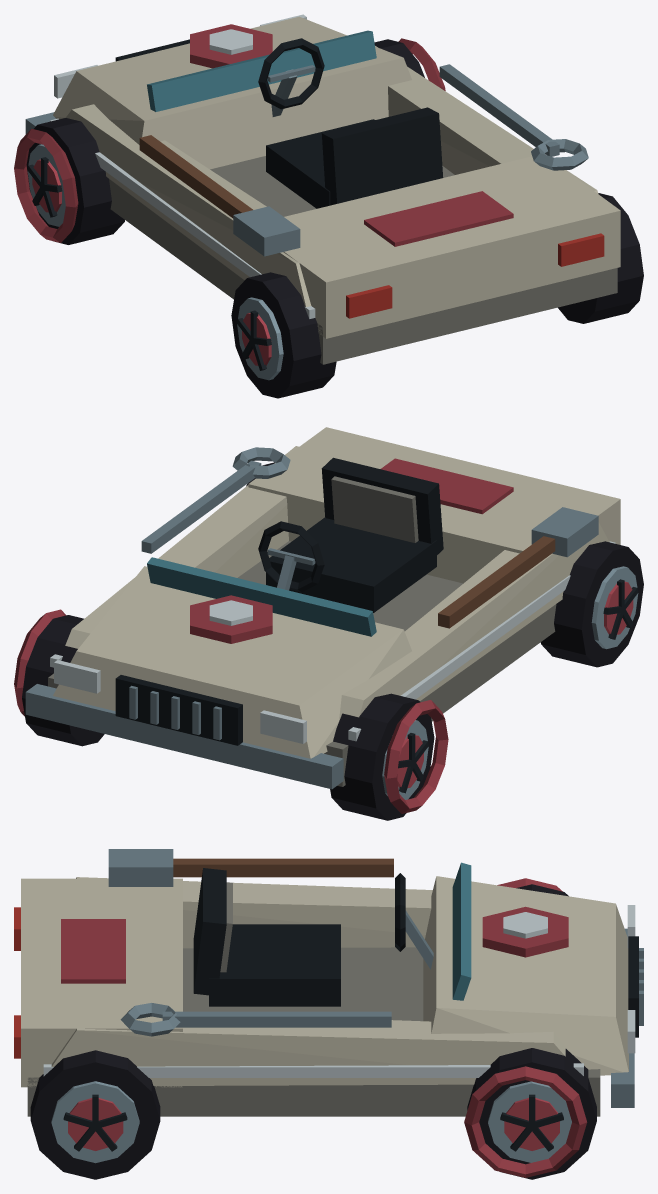
The model's file is kart.glb.
3 renders of one model, top to bottom at view 1: azimuth 30°, elevation 25°; view 2: azimuth 150°, elevation 25°; view 3: azimuth 270°, elevation 25°, orthographic. The views are drawn at different scales.
Visible parts, largest first — view 1: identity-sedan-sedan-road-car-body, identity-sedan-driver-cockpit, wheel-rear-left, identity-sedan-motif-tools, wheel-front-left, identity-sedan-motif-neon, wheel-rear-right, identity-sedan-motif-badge, wheel-front-right; view 2: identity-sedan-sedan-road-car-body, identity-sedan-driver-cockpit, wheel-rear-left, identity-sedan-motif-tools, wheel-front-left, identity-sedan-motif-neon, wheel-front-right, identity-sedan-motif-badge; view 3: identity-sedan-sedan-road-car-body, identity-sedan-driver-cockpit, wheel-rear-right, identity-sedan-motif-tools, identity-sedan-motif-neon, wheel-front-right, identity-sedan-motif-badge.
Boxes of the visible parts, x1,y1,x2,y2 form: identity-sedan-sedan-road-car-body: (25,14,620,364); identity-sedan-driver-cockpit: (258,38,443,208); wheel-rear-left: (231,272,336,398); identity-sedan-motif-tools: (139,64,588,256); wheel-front-left: (26,118,124,244); identity-sedan-motif-neon: (14,38,445,318); wheel-rear-right: (558,193,643,323); identity-sedan-motif-badge: (190,24,272,68); wheel-front-right: (374,39,424,77); identity-sedan-sedan-road-car-body: (25,427,620,789); identity-sedan-driver-cockpit: (258,457,443,612); wheel-rear-left: (540,541,643,667); identity-sedan-motif-tools: (141,447,598,628); wheel-front-left: (330,693,434,820); identity-sedan-motif-neon: (14,541,615,813); wheel-front-right: (22,615,104,746); identity-sedan-motif-badge: (190,595,272,643); identity-sedan-sedan-road-car-body: (14,862,643,1116); identity-sedan-driver-cockpit: (193,868,433,1006); wheel-rear-right: (30,1050,160,1179); identity-sedan-motif-tools: (108,849,393,1036); identity-sedan-motif-neon: (43,878,587,1177); wheel-front-right: (467,1048,596,1179); identity-sedan-motif-badge: (482,906,568,957).
Bounding box in the file's own units: 2.13 × 1.09 × 2.92.
